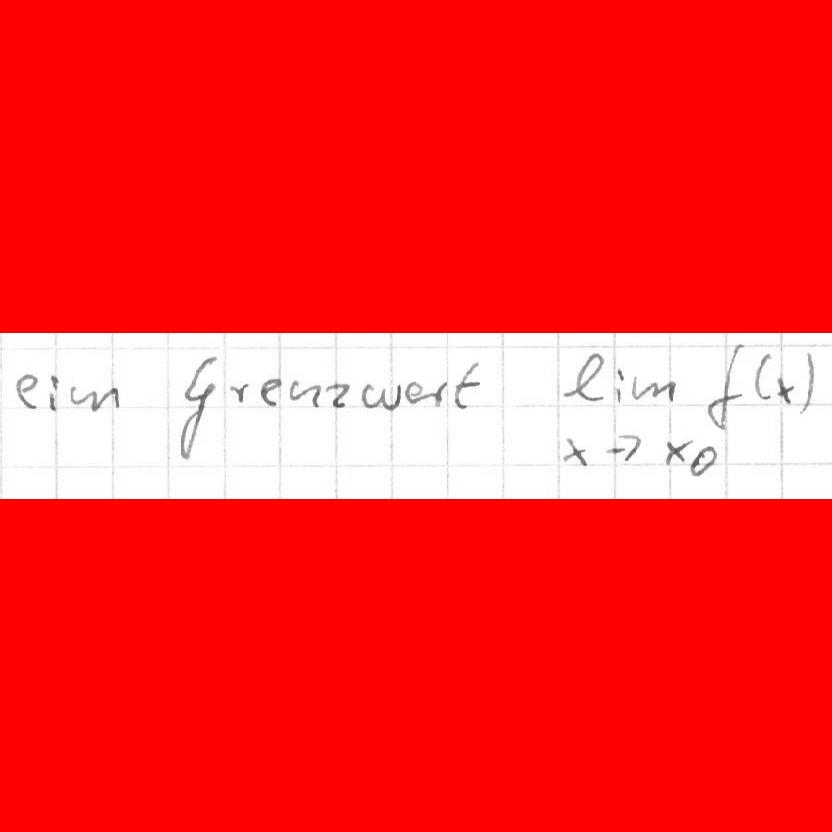Char: (175, 352, 216, 463), (705, 346, 749, 427), (564, 352, 606, 403), (451, 360, 482, 412), (70, 383, 122, 414), (359, 378, 402, 411), (630, 374, 676, 403), (799, 349, 817, 414), (752, 350, 774, 401), (687, 444, 719, 477), (561, 436, 593, 468), (603, 435, 639, 463), (14, 371, 39, 411), (288, 378, 321, 407), (663, 439, 690, 466), (259, 376, 280, 408), (327, 381, 350, 407), (427, 379, 448, 407), (776, 376, 795, 406), (228, 380, 250, 405), (48, 373, 62, 411), (405, 378, 424, 406), (615, 368, 627, 403)
